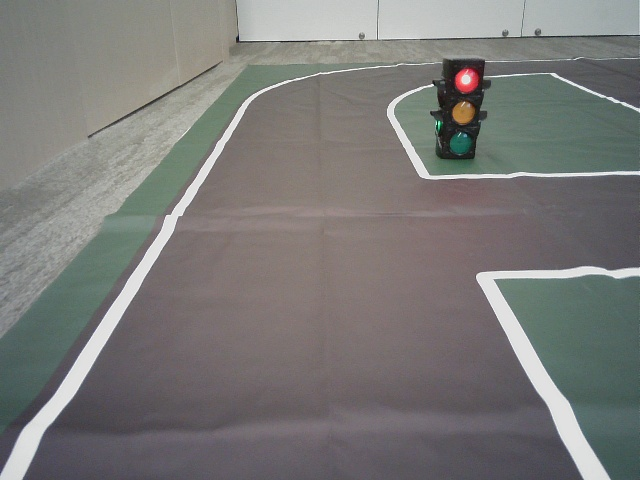red: (447, 61, 478, 155)
